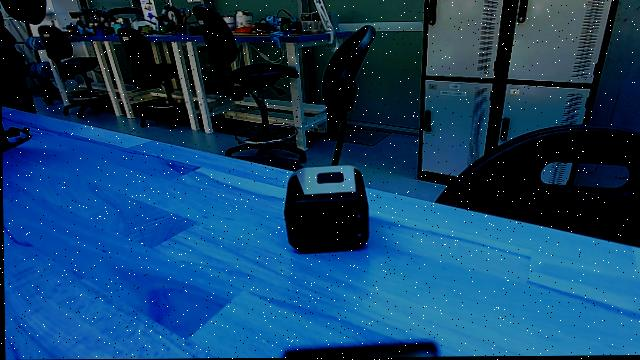adapter: (282, 164, 370, 256)
